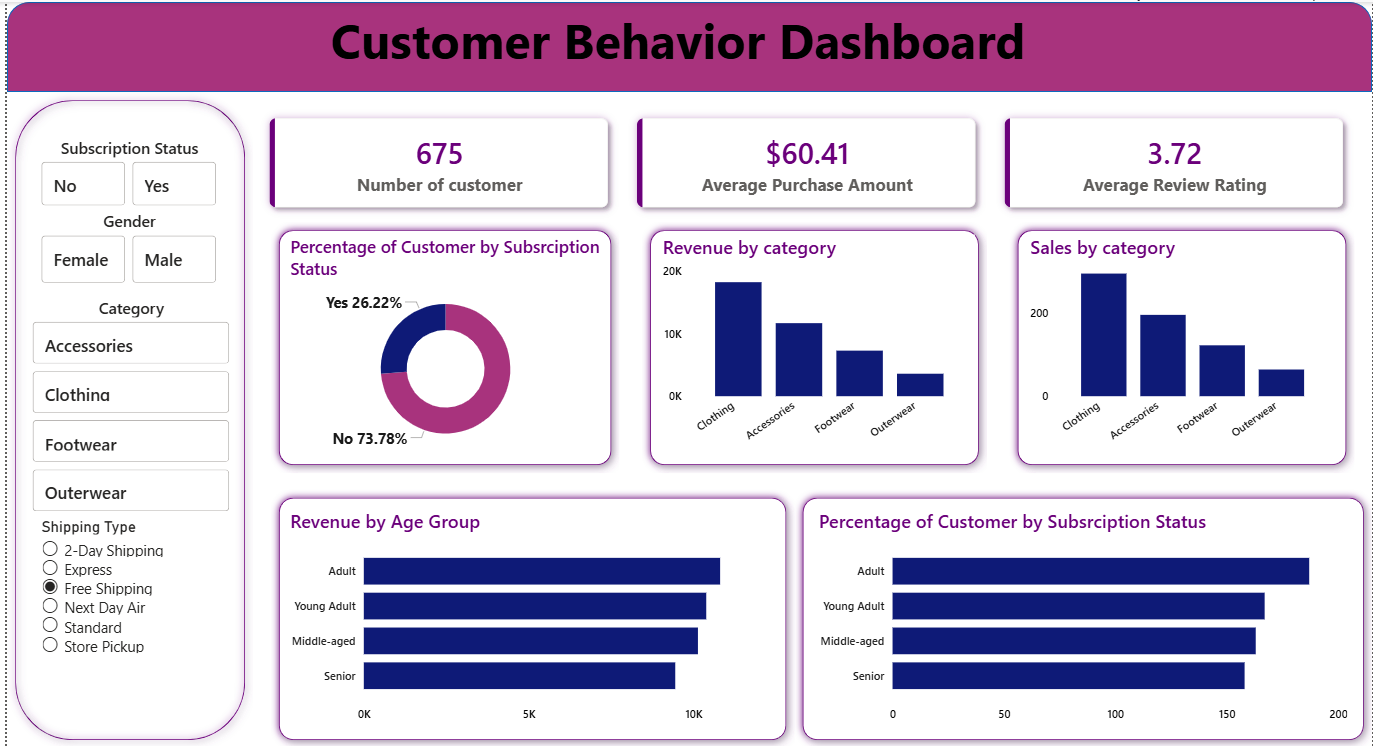

The dashboard page shown, as its layout file describes it:
{"tool":"powerbi","page":{"name":"Page 1","canvas":[1500,820],"ordinal":0},"visuals":[{"type":"cardVisual","fields":{"Data":["customer_shopping_behavior_analysis.Number of customer","customer_shopping_behavior_analysis.Average Purchase Amount","customer_shopping_behavior_analysis.Average Review Rating"]},"box":[259.7,98.9,1240.7,156.6],"z":0},{"type":"shape","box":[0,0,1500.4,98.9],"z":1000},{"type":"textbox","box":[250.1,0,975.5,98.9],"z":2000},{"type":"shape","box":[289.9,241.8,383.3,276.2],"z":3000},{"type":"donutChart","title":"Percentage of Customer by Subsrciption Status","fields":{"Category":["customer_shopping_behavior_analysis.subscription_status"],"Y":["CountNonNull(customer_shopping_behavior_analysis.customer_id)"]},"box":[306.4,255.6,351.7,245.9],"z":4000},{"type":"shape","box":[698,241.8,379.2,276.2],"z":5000},{"type":"shape","box":[1101.9,241.8,379.2,276.2],"z":6000},{"type":"clusteredColumnChart","title":"Revenue by category","fields":{"Y":["Sum(customer_shopping_behavior_analysis.purchase_amount)"],"Category":["customer_shopping_behavior_analysis.category"]},"box":[715.9,255.6,347.6,245.9],"z":7000},{"type":"clusteredColumnChart","title":"Sales by category","fields":{"Y":["CountNonNull(customer_shopping_behavior_analysis.purchase_amount)"],"Category":["customer_shopping_behavior_analysis.category"]},"box":[1119.8,255.6,339.4,245.9],"z":8000},{"type":"shape","box":[0,98.9,270.7,721.4],"z":9000},{"type":"advancedSlicerVisual","title":"Subscription Status","fields":{"Values":["customer_shopping_behavior_analysis.subscription_status"]},"box":[33,148.4,203.4,81.1],"z":10000},{"type":"advancedSlicerVisual","title":"Gender","fields":{"Values":["customer_shopping_behavior_analysis.gender"]},"box":[33,229.5,203.4,85.2],"z":11000},{"type":"advancedSlicerVisual","title":"Category","fields":{"Values":["customer_shopping_behavior_analysis.category"]},"box":[23.4,324.3,226.7,241.8],"z":12000},{"type":"listSlicer","title":"Shipping Type","fields":{"Values":["customer_shopping_behavior_analysis.shipping_type"]},"box":[33,566.1,217.1,202],"z":13000},{"type":"shape","box":[289.9,535.9,575.7,284.4],"z":14000},{"type":"clusteredBarChart","title":"Revenue by Age Group","fields":{"Category":["customer_shopping_behavior_analysis.age_group"],"Y":["Sum(customer_shopping_behavior_analysis.purchase_amount)"]},"box":[306.4,556.5,535.9,244.6],"z":15000},{"type":"shape","box":[865.6,535.9,634.8,284.4],"z":16000},{"type":"clusteredBarChart","title":"Percentage of Customer by Subsrciption Status","fields":{"Category":["customer_shopping_behavior_analysis.age_group"],"Y":["CountNonNull(customer_shopping_behavior_analysis.customer_id)"]},"box":[887.6,556.5,590.8,244.6],"z":17000}]}

Visuals, with their boxes in screenshot pixels (x1, y1, x2, y2), scaled from the page's 1500x820 canvas onto the 1373x746 screenshot:
cardVisual - customer_shopping_behavior_analysis.Number of customer x customer_shopping_behavior_analysis.Average Purchase Amount: BBox(238, 90, 1372, 232)
shape: BBox(0, 0, 1372, 90)
textbox: BBox(229, 0, 1122, 90)
shape: BBox(265, 220, 616, 471)
"Percentage of Customer by Subsrciption Status" donutChart: BBox(280, 233, 602, 456)
shape: BBox(639, 220, 986, 471)
shape: BBox(1009, 220, 1356, 471)
"Revenue by category" clusteredColumnChart: BBox(655, 233, 973, 456)
"Sales by category" clusteredColumnChart: BBox(1025, 233, 1336, 456)
shape: BBox(0, 90, 248, 745)
"Subscription Status" advancedSlicerVisual: BBox(30, 135, 216, 209)
"Gender" advancedSlicerVisual: BBox(30, 209, 216, 286)
"Category" advancedSlicerVisual: BBox(21, 295, 229, 515)
"Shipping Type" listSlicer: BBox(30, 515, 229, 699)
shape: BBox(265, 488, 792, 745)
"Revenue by Age Group" clusteredBarChart: BBox(280, 506, 771, 729)
shape: BBox(792, 488, 1372, 745)
"Percentage of Customer by Subsrciption Status" clusteredBarChart: BBox(812, 506, 1353, 729)
